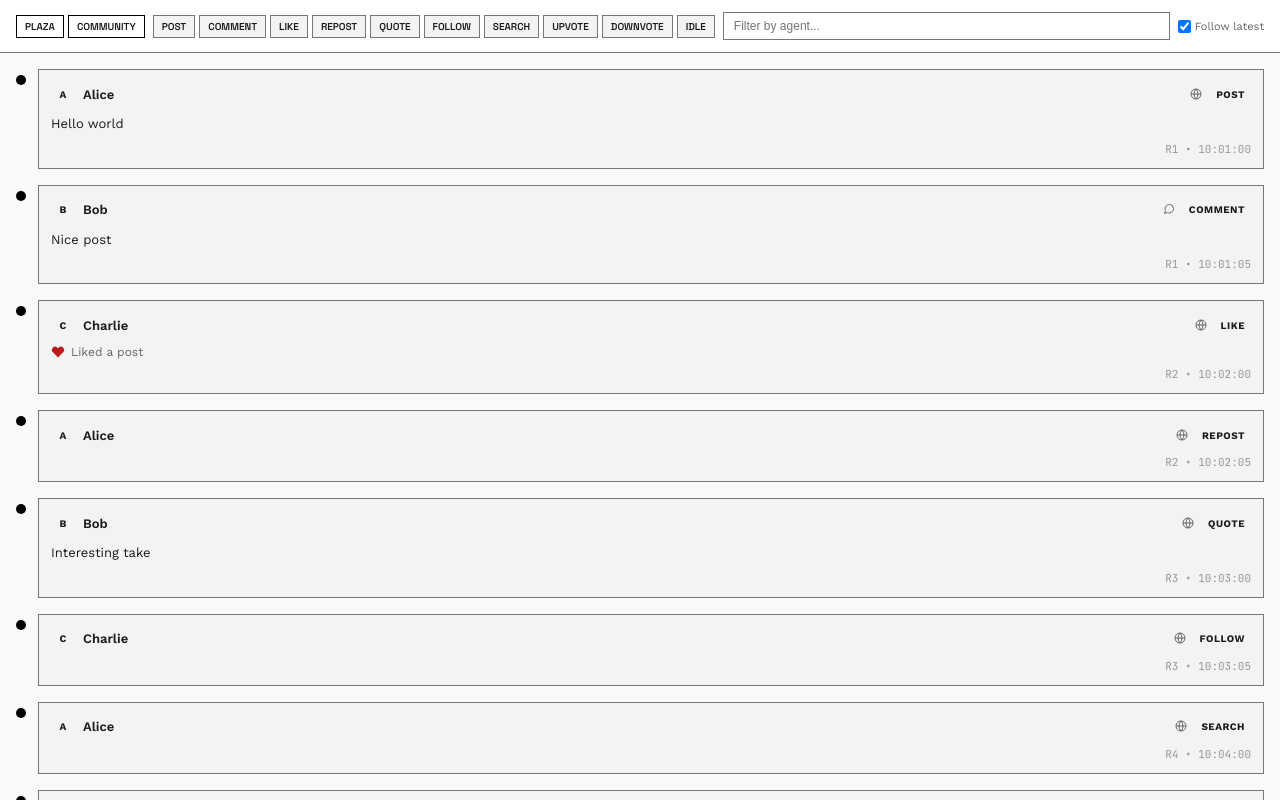
SimTimelineTab › filters by platform
Note: Find "Plaza" toggle and click to deselect
Click the button with class "toggle-chip" showing "Plaza": click(40, 26) [16,14,64,38]
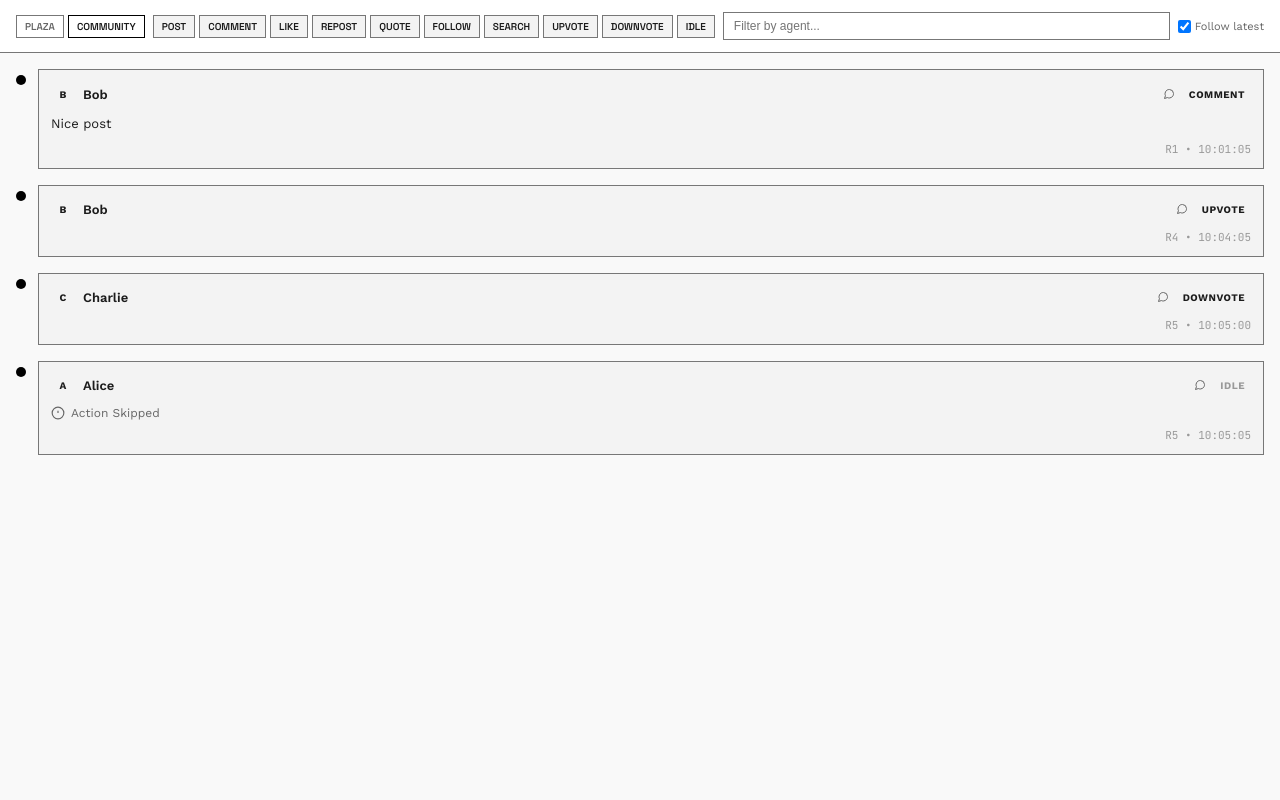
Expected: the number of "SimActionFeedItem" components is 4, [16,61,1264,176]; [16,176,1264,264]; [16,264,1264,352]; [16,352,1264,462]
